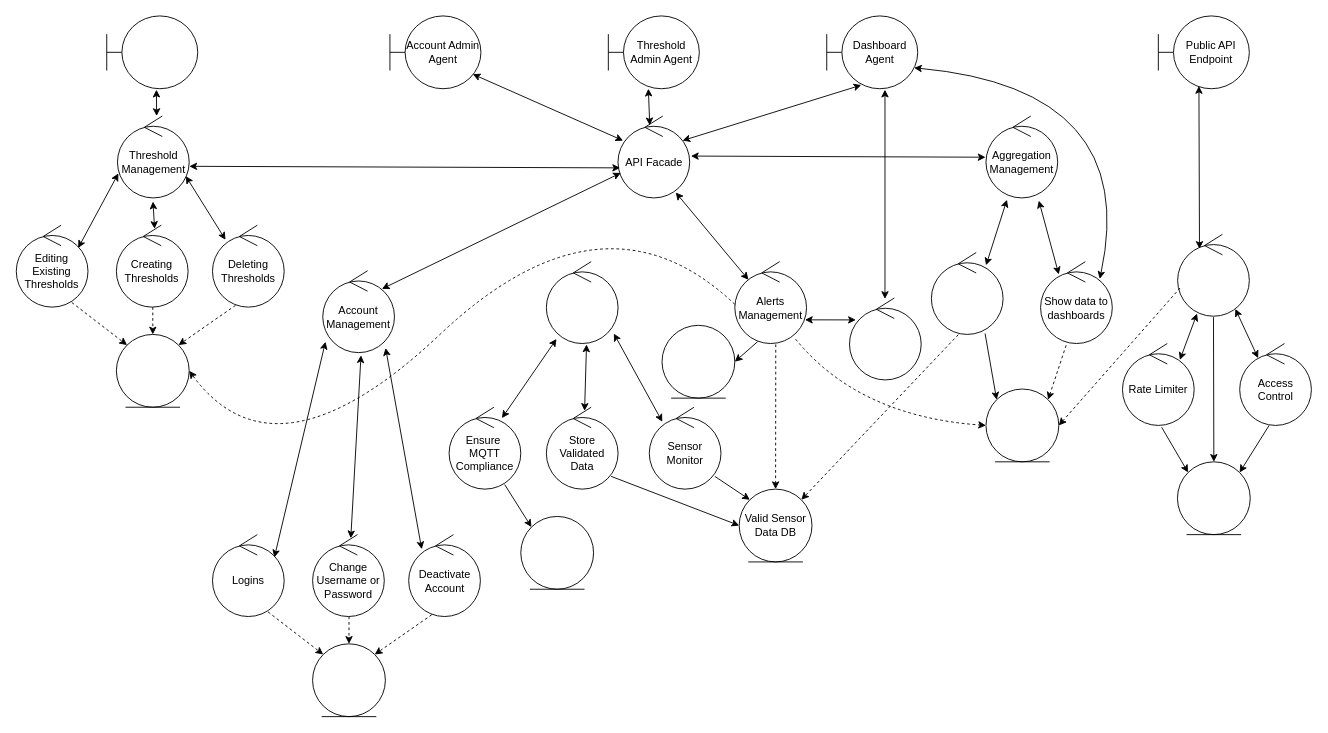
Some shapes in this 1328 by 733 pixel diagram are drawn without their labels. The centre of each missing label's shape, as x and y in pixels:
"Account DB" belongs at (348,680).
"Aggregated Environmental Data DB" belongs at (1022,425).
"Alerts DB" belongs at (698,361).
"API Management" belongs at (1213,274).
"Data Validation Management" belongs at (581,302).
"High level UI" belongs at (152,52).
"Notification Service" belongs at (885,338).
"Perform Aggregations" belongs at (966,293).
"Threshold DB" belongs at (152,370).
"Usage Log" belongs at (1213,498).
"Validation Event Log" belongs at (557,552).
